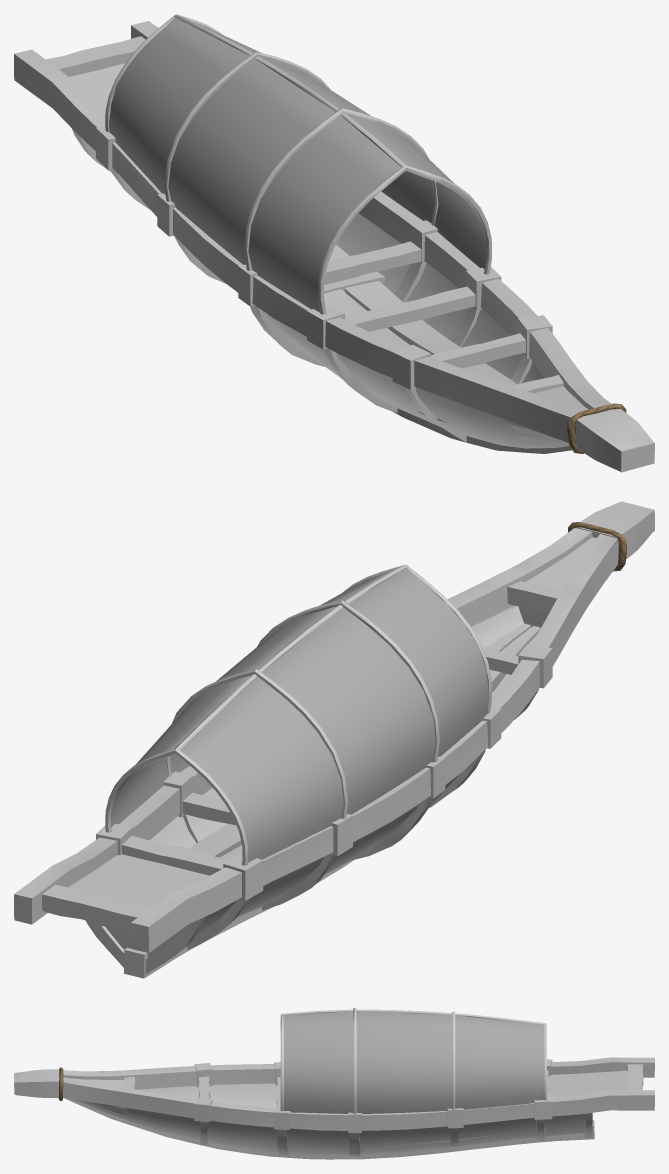
Rendered from SM_EastLands_Boat_01.fbx.
3 views of the same model, one above another, from view 1: azimuth 30°, elevation 25°; view 2: azimuth 150°, elevation 25°; view 3: azimuth 270°, elevation 25° (orthographic). The views are drawn at different scales.
Visible parts, largest first — view 1: SM_EastLands_Boat_01_LOD0; view 2: SM_EastLands_Boat_01_LOD0; view 3: SM_EastLands_Boat_01_LOD0.
Part boxes in pixels (x1,y1,x2,y2): SM_EastLands_Boat_01_LOD0: (14,14,654,472); SM_EastLands_Boat_01_LOD0: (14,501,654,978); SM_EastLands_Boat_01_LOD0: (14,1007,654,1159).
Size of the model in its own units: 146 by 717 by 184.
